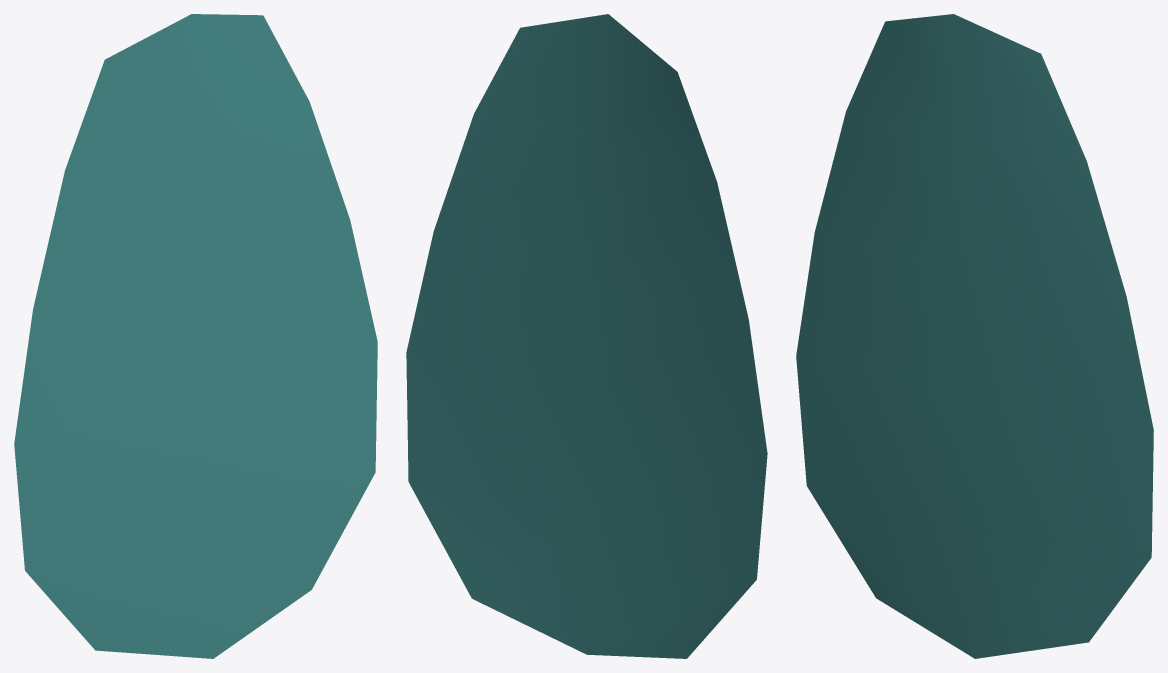
The model's file is budgie_feather_flight_tertiary_007.obj.
The picture shows the model from 3 angles, left to right: view 1: azimuth 30°, elevation 25°; view 2: azimuth 150°, elevation 25°; view 3: azimuth 330°, elevation 25°; orthographic projection.
Visible parts, largest first — view 1: feather_flight_tertiary_007; view 2: feather_flight_tertiary_007; view 3: feather_flight_tertiary_007.
Part boxes in pixels (left/top/right/bottom): feather_flight_tertiary_007: left=14, top=14, right=377, bottom=658; feather_flight_tertiary_007: left=406, top=14, right=767, bottom=658; feather_flight_tertiary_007: left=796, top=14, right=1153, bottom=658.
Size of the model in its own units: 0.00785 by 0.0134 by 0.000322.
